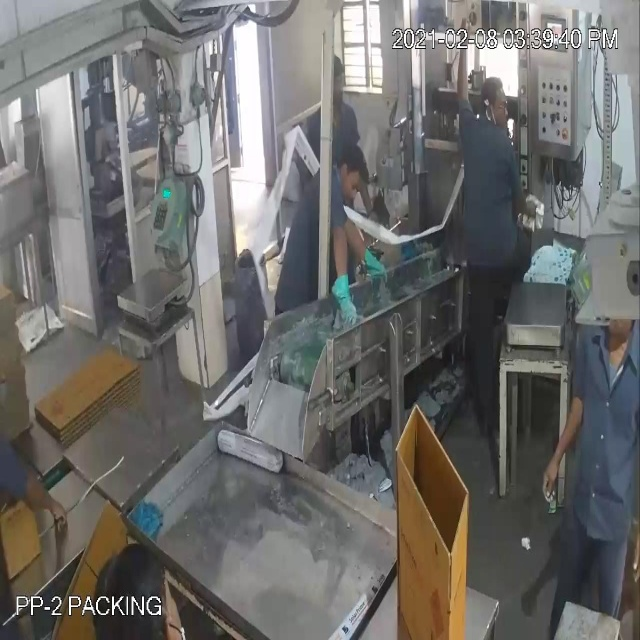Sin_guantes: (531, 360, 588, 504)
